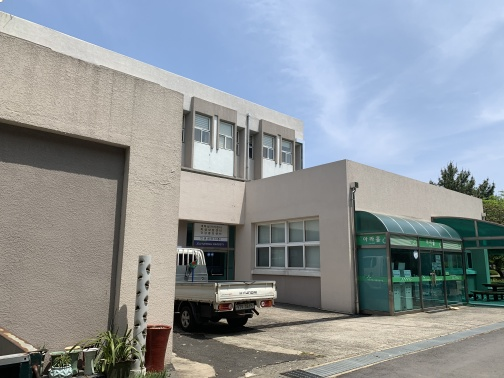Ara Hall: (256, 167, 498, 314), (351, 207, 499, 313)
